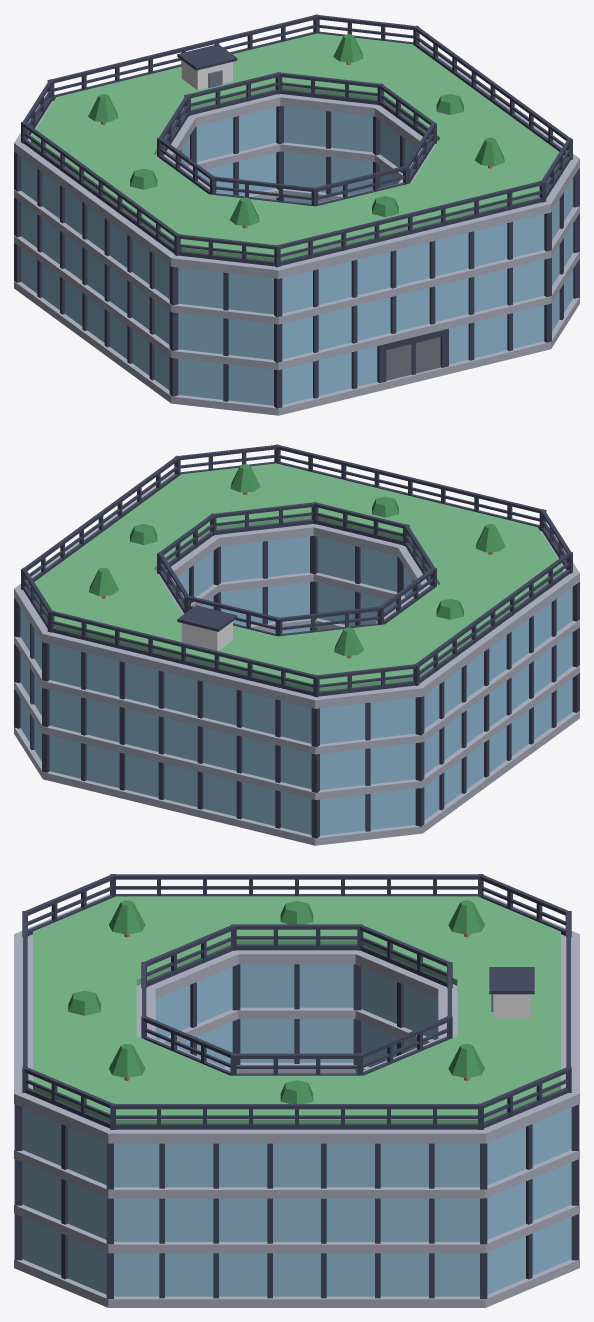
The model's file is office-octagon-3x3-t4-tone-a.glb.
The picture shows the model from 3 angles, top to bottom: view 1: azimuth 30°, elevation 25°; view 2: azimuth 150°, elevation 25°; view 3: azimuth 270°, elevation 25°; orthographic projection. The views are drawn at different scales.
Visible parts, largest first — view 1: office-octagon-3x3-t4-tone-a; view 2: office-octagon-3x3-t4-tone-a; view 3: office-octagon-3x3-t4-tone-a.
Boxes of the visible parts, x1,y1,x2,y2 form: office-octagon-3x3-t4-tone-a: (14,14,579,415); office-octagon-3x3-t4-tone-a: (14,444,579,845); office-octagon-3x3-t4-tone-a: (14,874,579,1307).
Bounding box in the file's own units: 3 × 1.25 × 3.
Materials: 1 (1 with a texture image).
